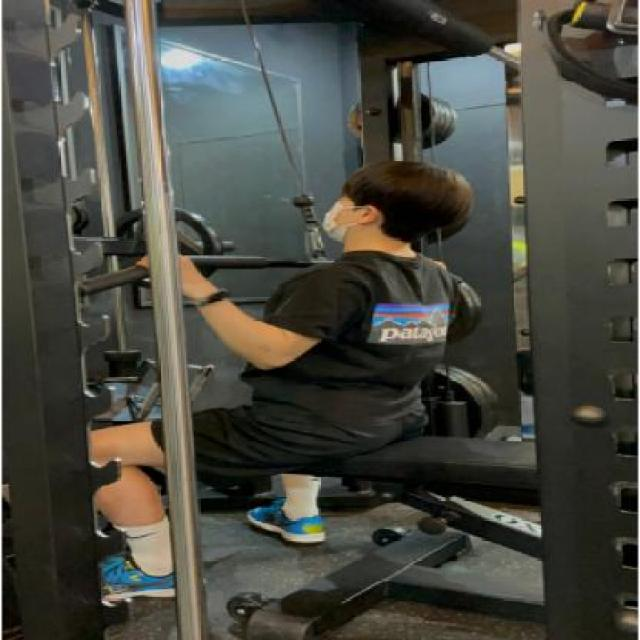Lat Pull Down: (8, 0, 540, 640)
